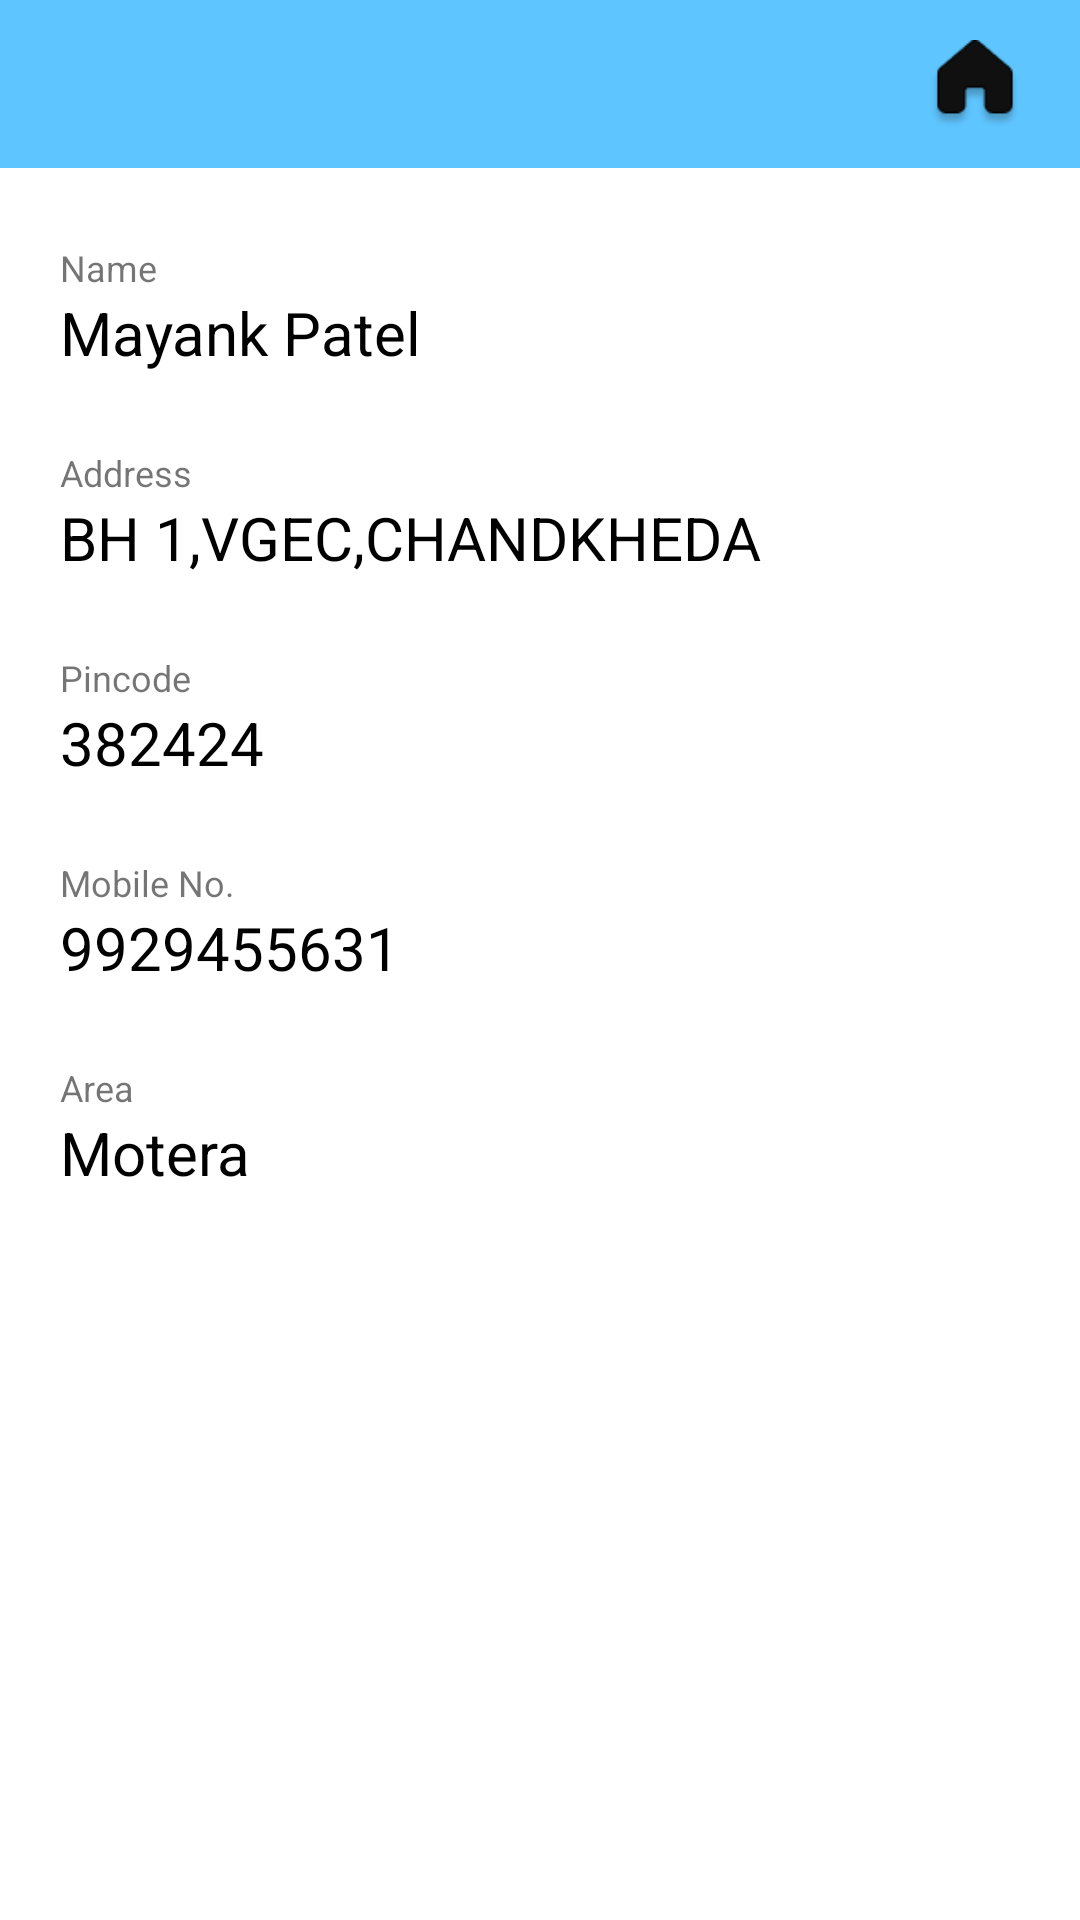

Where to tap for icons on this 1080px×1920px app screen, as point (x, y):
home: point (975, 80)
